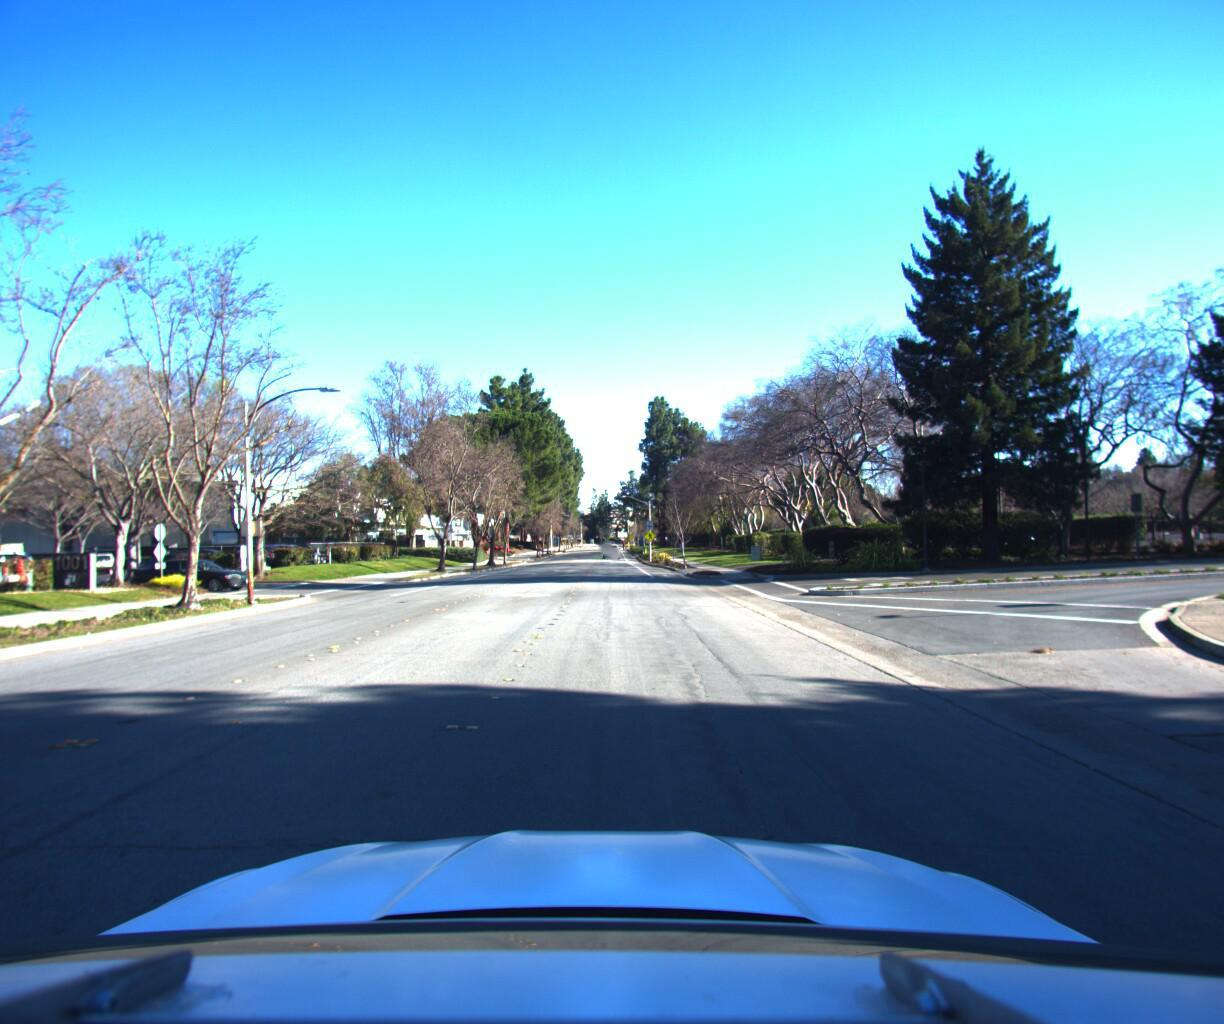car: (134, 545, 267, 586), (603, 534, 621, 550)
